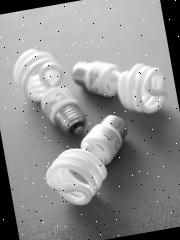lightbulb: (8, 26, 180, 212), (37, 111, 139, 210), (9, 41, 88, 144), (70, 46, 170, 126), (41, 142, 112, 210), (9, 44, 68, 106), (38, 81, 88, 140)
